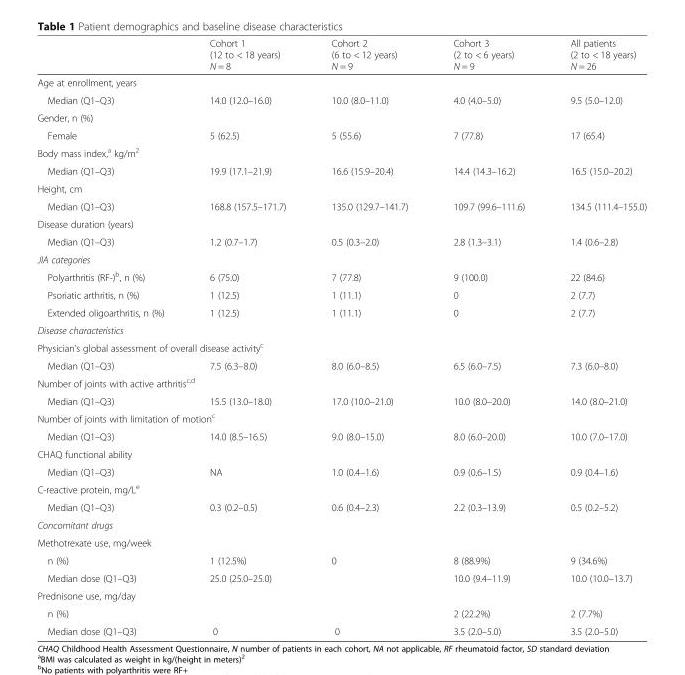table: (36, 37, 646, 636)
table column: (36, 37, 186, 636), (186, 37, 308, 636), (308, 37, 429, 636), (429, 37, 546, 636), (546, 37, 646, 636)
table column header: (36, 37, 646, 73)
table projected row header: (36, 408, 646, 427), (36, 479, 646, 498), (36, 73, 646, 91), (36, 108, 646, 126), (36, 143, 646, 161), (36, 179, 646, 197), (36, 214, 646, 232), (36, 338, 646, 356), (36, 373, 646, 391), (36, 444, 646, 462), (36, 515, 646, 533), (36, 533, 646, 551), (36, 586, 646, 604), (36, 250, 646, 267), (36, 321, 646, 338)
table row: (36, 37, 646, 73), (36, 408, 646, 427), (36, 479, 646, 498), (36, 73, 646, 91), (36, 108, 646, 126), (36, 143, 646, 161), (36, 161, 646, 179), (36, 179, 646, 197), (36, 214, 646, 232), (36, 232, 646, 250), (36, 267, 646, 285), (36, 285, 646, 303), (36, 303, 646, 321), (36, 338, 646, 356), (36, 373, 646, 391), (36, 444, 646, 462), (36, 515, 646, 533), (36, 533, 646, 551), (36, 568, 646, 586), (36, 586, 646, 604), (36, 604, 646, 622), (36, 91, 646, 108), (36, 126, 646, 143), (36, 197, 646, 214), (36, 250, 646, 267), (36, 321, 646, 338), (36, 356, 646, 373), (36, 391, 646, 408), (36, 427, 646, 444), (36, 462, 646, 479), (36, 498, 646, 515), (36, 551, 646, 568), (36, 622, 646, 636)
